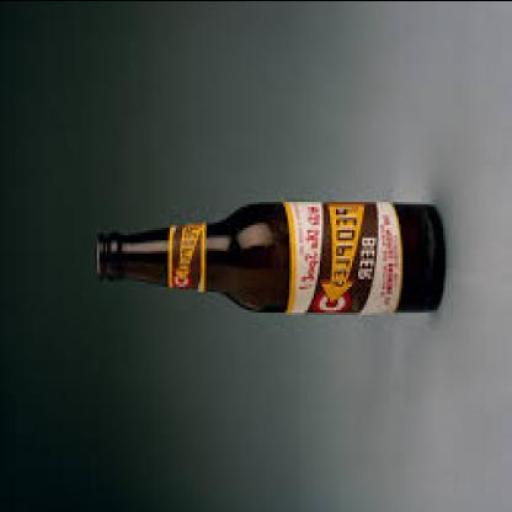glass: (95, 196, 443, 309)
